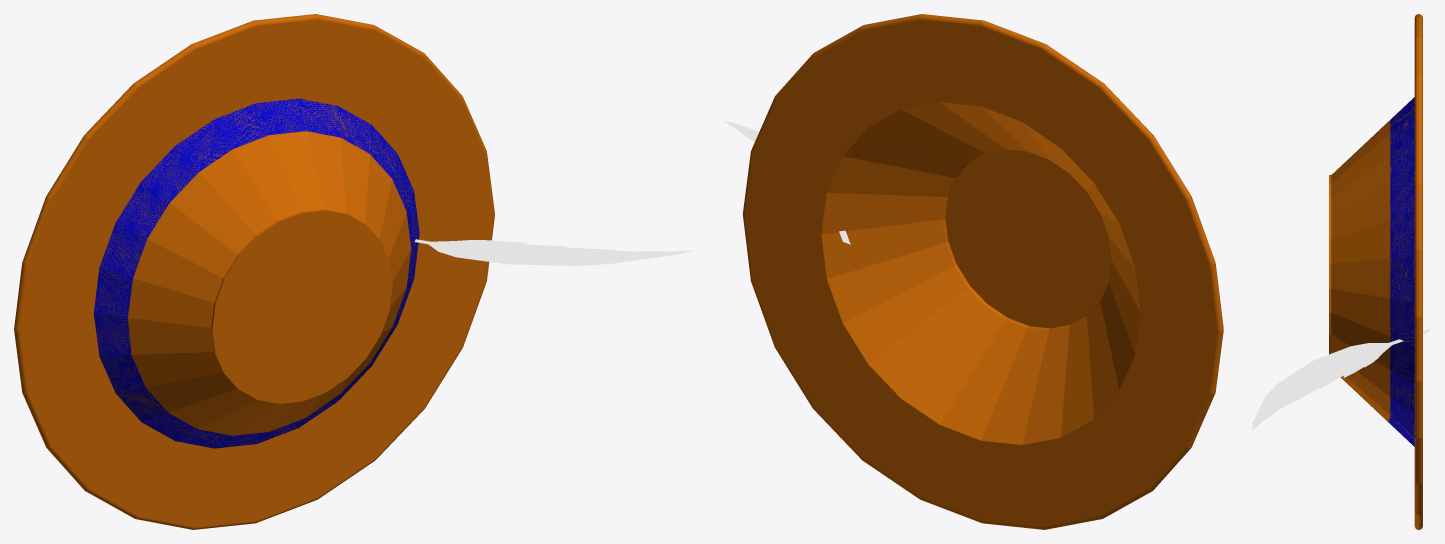
3 views of the same model, side by side, from view 1: azimuth 30°, elevation 25°; view 2: azimuth 150°, elevation 25°; view 3: azimuth 270°, elevation 25° (orthographic). The views are drawn at different scales.
Visible parts, largest first — view 1: hat; view 2: hat; view 3: hat.
Boxes of the visible parts, left/top/right/bottom form: hat: left=14, top=14, right=693, bottom=529; hat: left=723, top=14, right=1223, bottom=529; hat: left=1252, top=14, right=1430, bottom=529.
Bounding box in the file's own units: 782 × 635 × 219.
